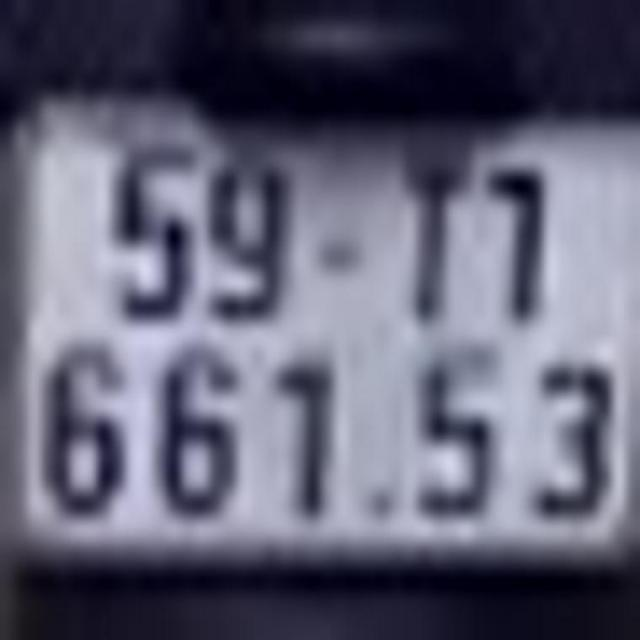1: (274, 342, 332, 526), (492, 141, 550, 322)
3: (538, 342, 610, 520)
5: (110, 134, 196, 316), (410, 333, 493, 514)
6: (51, 332, 120, 519), (166, 346, 238, 513)
9: (214, 142, 285, 316)
T: (396, 156, 476, 322)
